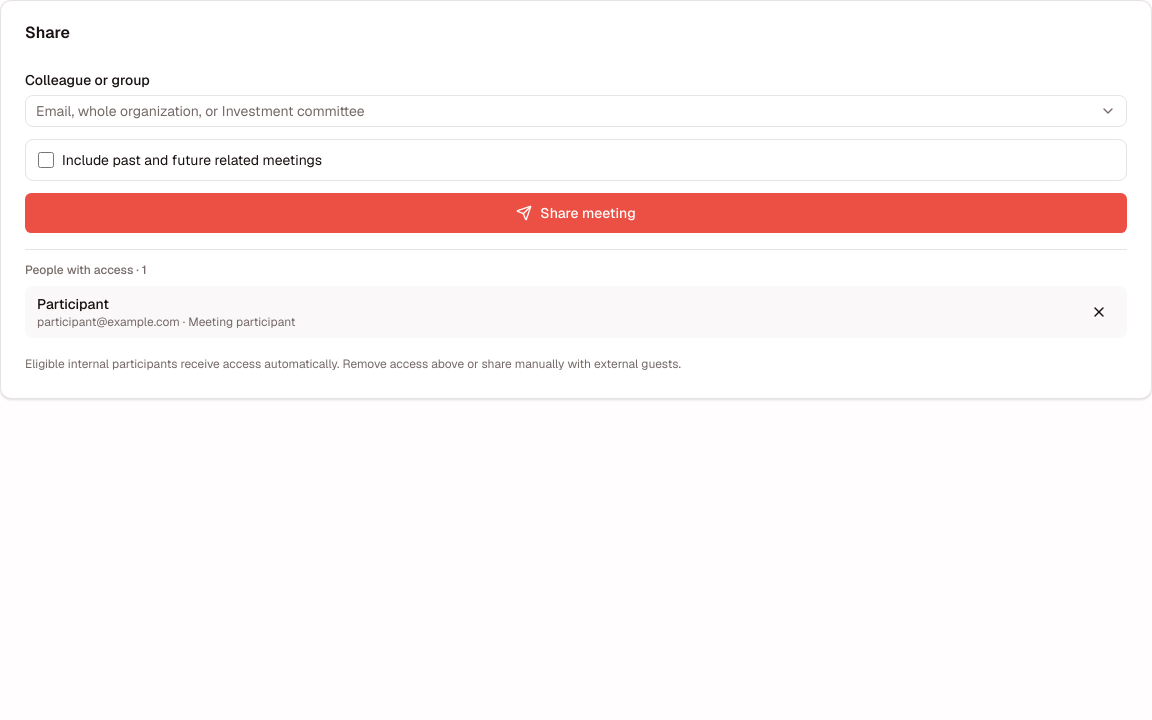
Test: ShareDialog interactions › offers an explicit selectable address for an unregistered external recipient
Type "molly@iosg.vc" into the dropdown.
click(560, 111); type("molly@iosg.vc")  # box [26, 96, 1094, 126]
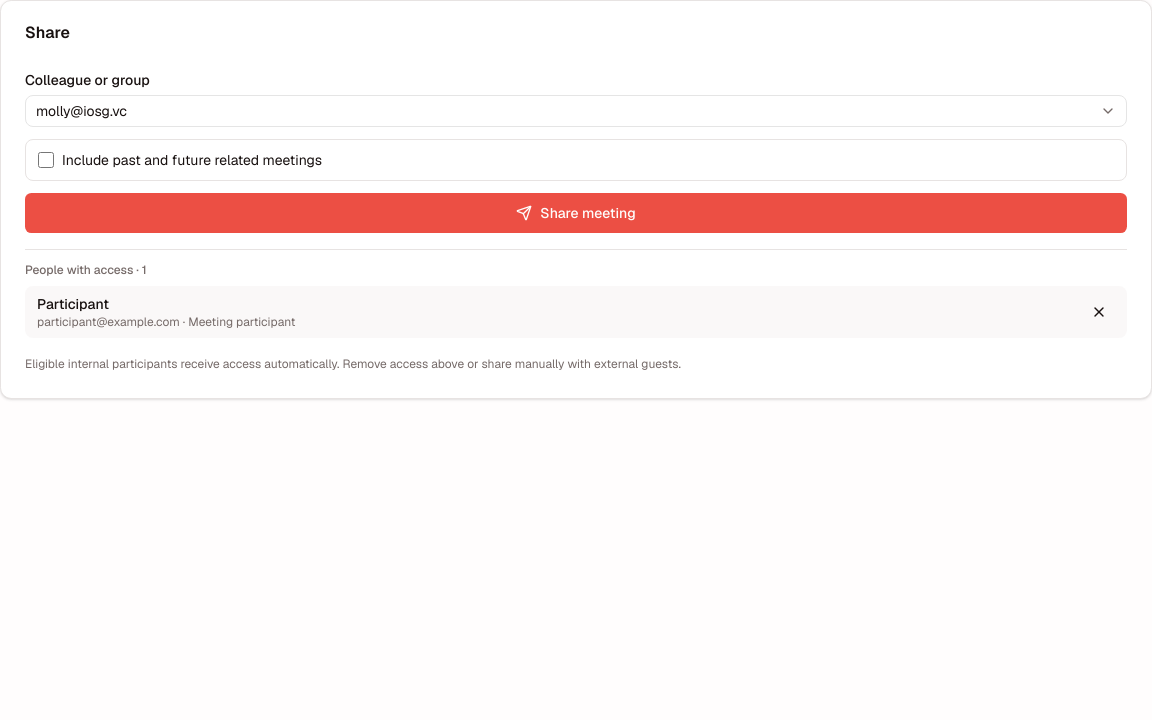
Click the button named "Show suggestions".
click(1108, 111)  # box [1094, 97, 1122, 125]
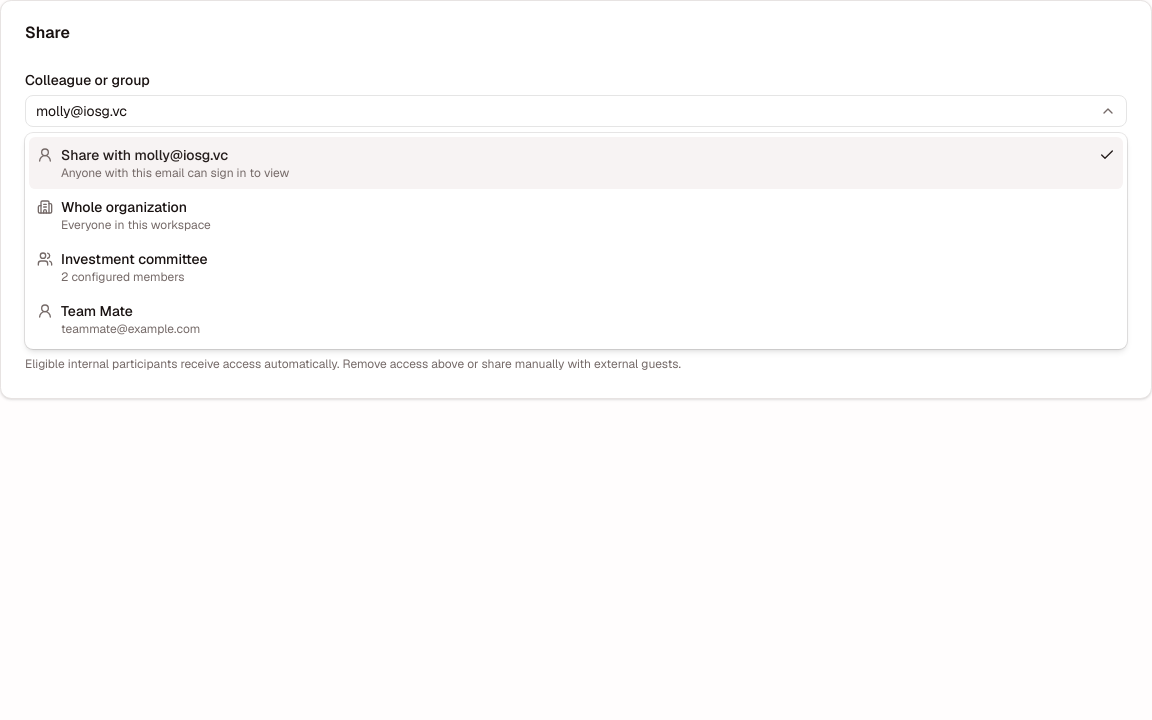
Click the option "Share with molly@iosg.vc".
click(145, 155)  # box [29, 137, 1123, 189]
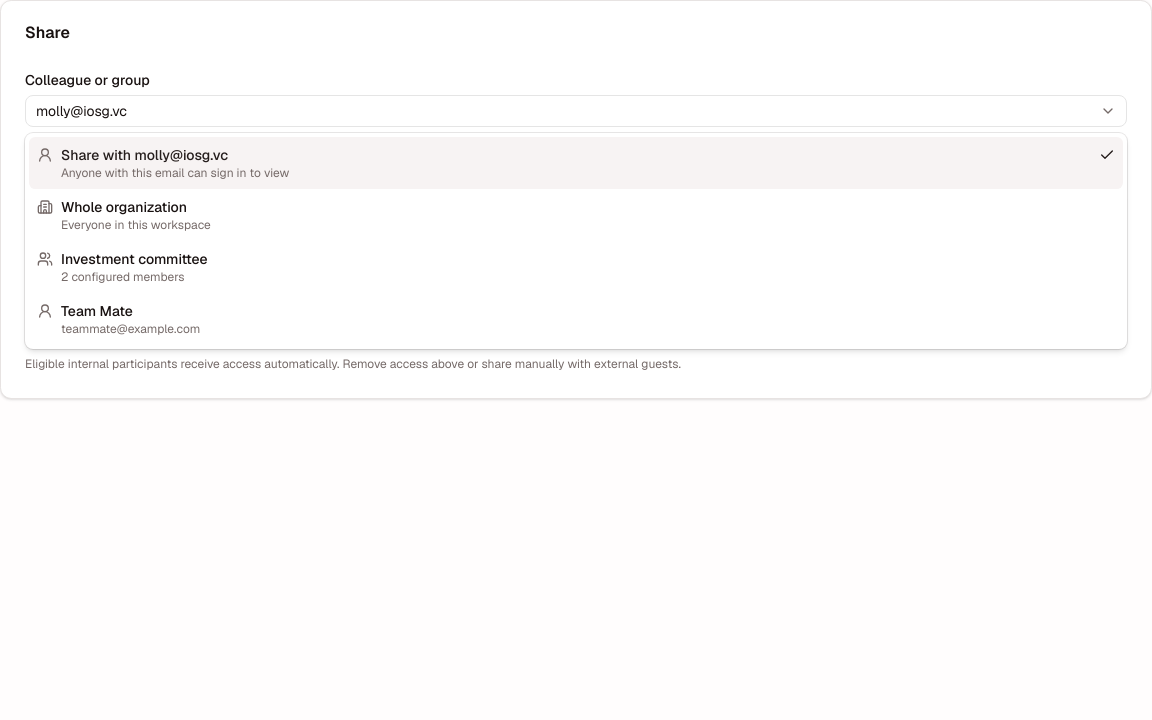
Click the button "Share meeting".
click(576, 213)  # box [25, 193, 1127, 233]
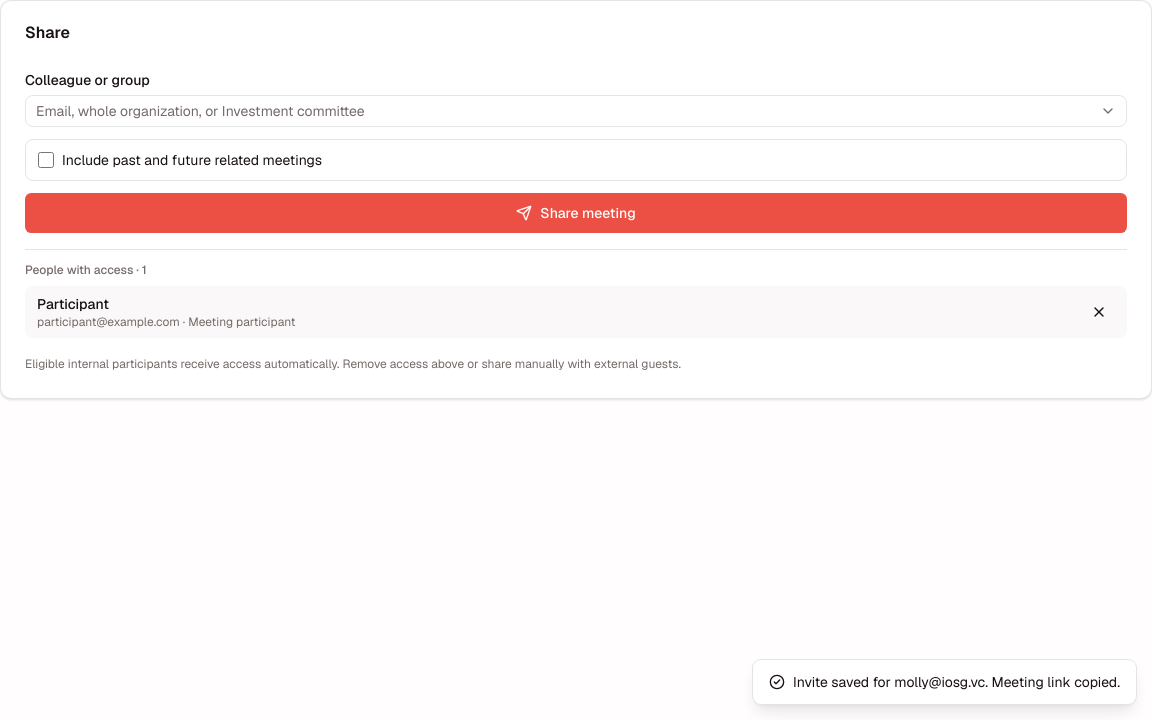
Result: the message "Invite saved for molly@iosg.vc. Meeting link copied." is shown at [753, 660, 1136, 704]
